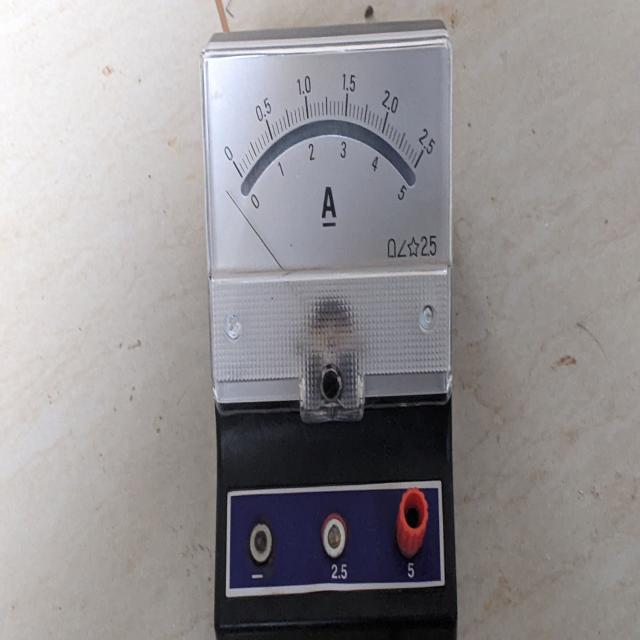Ammeter Analog: (206, 31, 464, 636)
